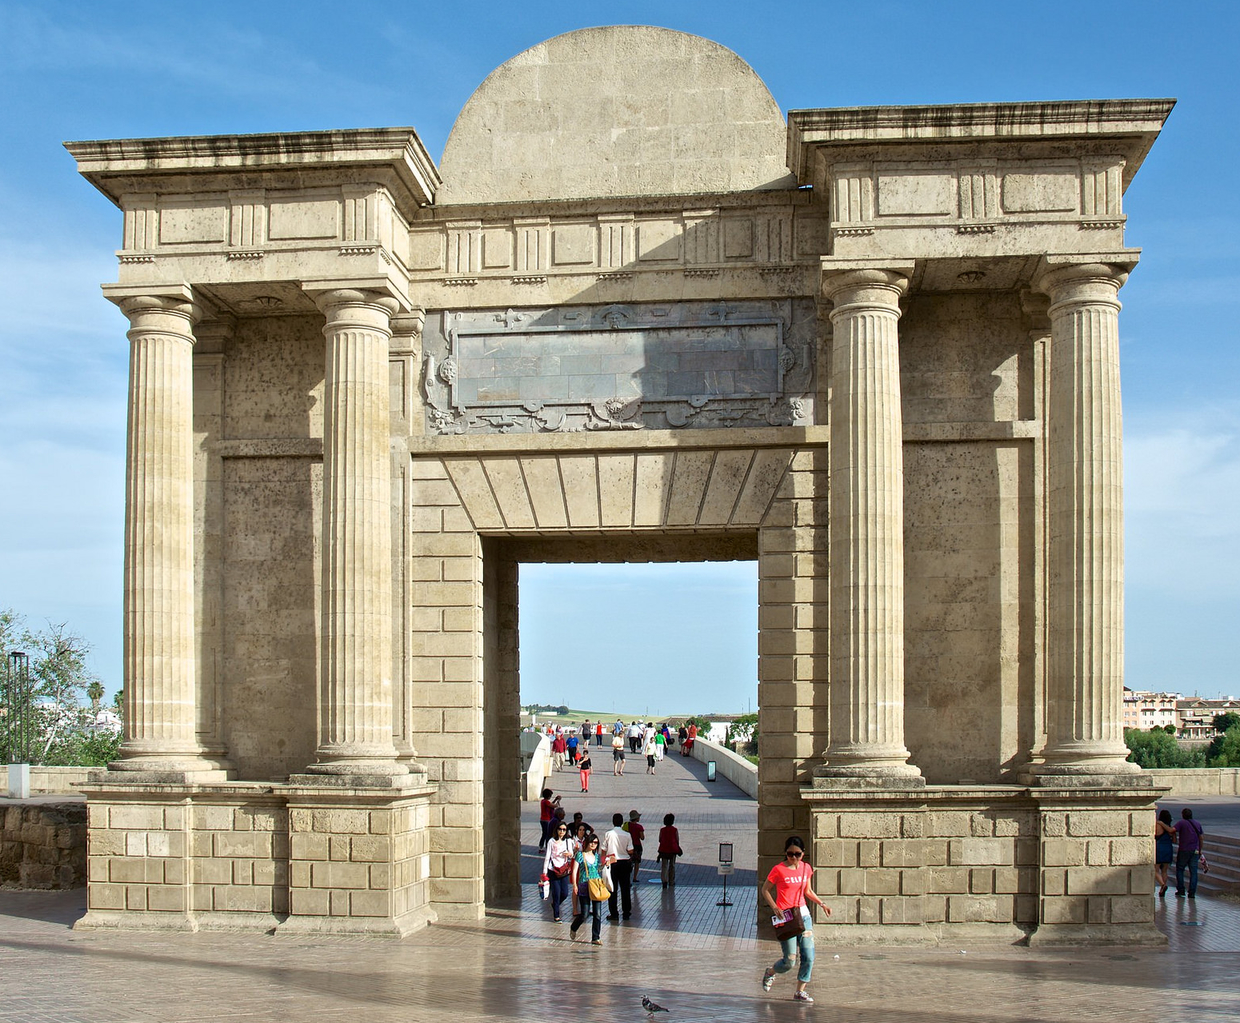vano-adintelado: (426, 489, 815, 932)
